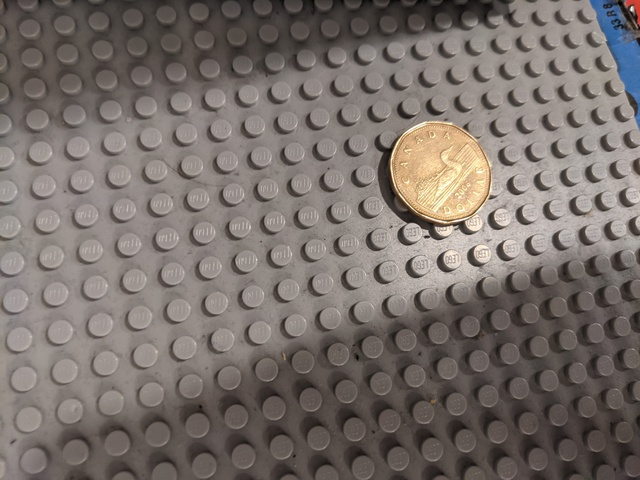loonie: (367, 116, 511, 227)
